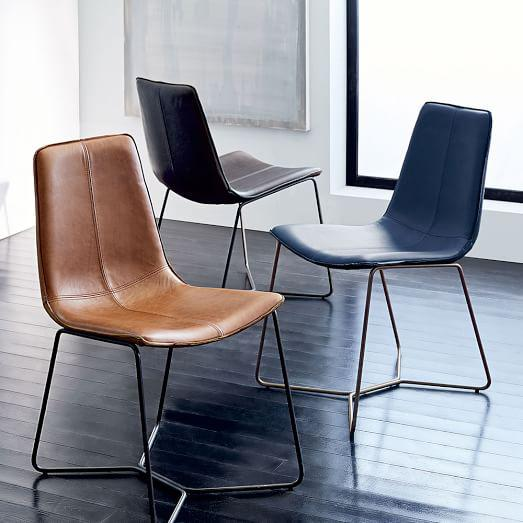chair: (23, 127, 328, 516), (254, 92, 496, 443), (120, 50, 344, 318)
